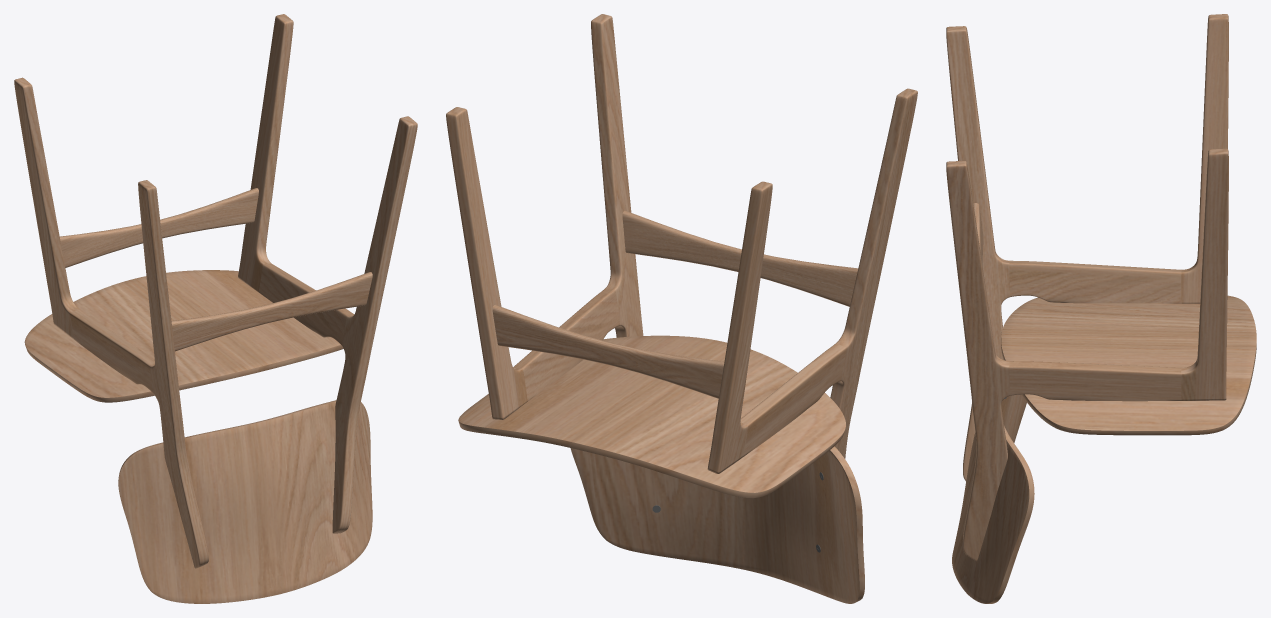
File: chair.glb
3 renders of one model, left to right at view 1: azimuth 30°, elevation 25°; view 2: azimuth 150°, elevation 25°; view 3: azimuth 270°, elevation 25°, orthographic. The views are drawn at different scales.
Parts seen in each view (by area): view 1: ChairBack, ChairLeg, ChairSeat, ChairRung.Back, ChairRung.Front; view 2: ChairLeg, ChairSeat, ChairBack, ChairRung.Front, ChairRung.Back; view 3: ChairLeg, ChairSeat, ChairBack.
Boxes of the visible parts, x1,y1,x2,y2 form: ChairBack: (118,400,372,603); ChairLeg: (14,14,417,568); ChairSeat: (24,270,343,402); ChairRung.Back: (171,272,372,351); ChairRung.Front: (60,188,258,267); ChairLeg: (446,14,917,473); ChairSeat: (458,335,845,498); ChairBack: (570,446,864,603); ChairRung.Front: (492,304,724,398); ChairRung.Back: (622,210,858,306); ChairLeg: (946,14,1228,561); ChairSeat: (1001,295,1256,435); ChairBack: (952,359,1034,603).
Size of the model in its own units: 2.63 by 4.21 by 2.47.
2 materials, 2 textured.
